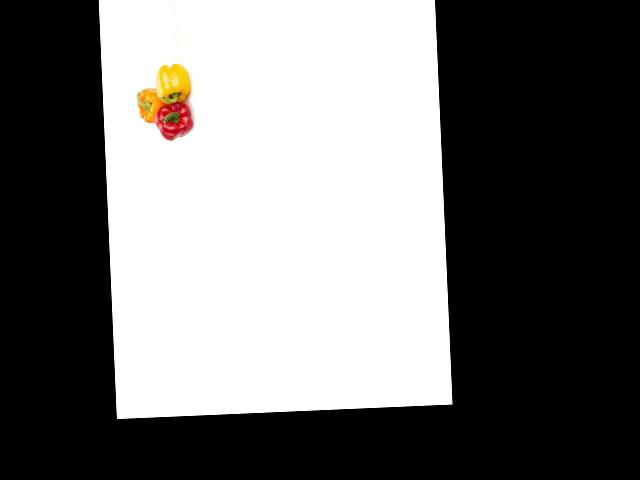bell_pepper: (154, 62, 194, 102)
